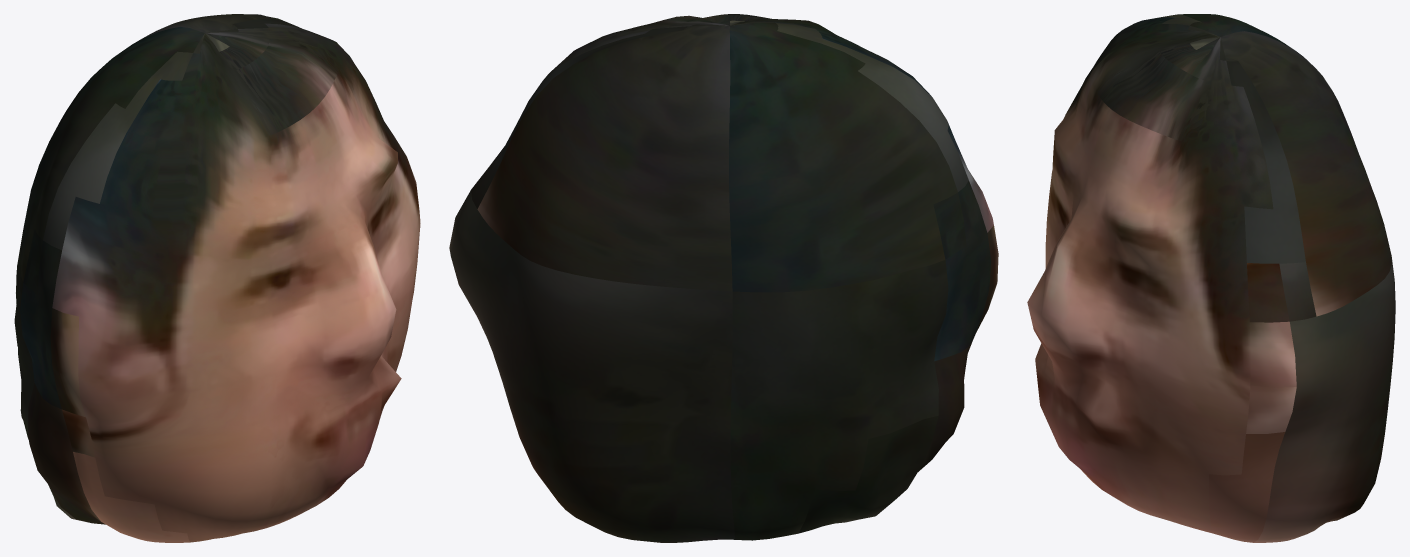
Rendered from carloshead.glb.
The picture shows the model from 3 angles, left to right: view 1: azimuth 30°, elevation 25°; view 2: azimuth 150°, elevation 25°; view 3: azimuth 270°, elevation 25°; orthographic projection. The views are drawn at different scales.
Parts seen in each view (by area): view 1: Carlos Head; view 2: Carlos Head; view 3: Carlos Head.
Boxes of the visible parts, left/top/right/bottom form: Carlos Head: left=14, top=14, right=420, bottom=542; Carlos Head: left=449, top=14, right=998, bottom=542; Carlos Head: left=1027, top=14, right=1395, bottom=542.
Bounding box in the file's own units: 3.5 × 3.66 × 2.6.
Materials: 1 (1 with a texture image).
